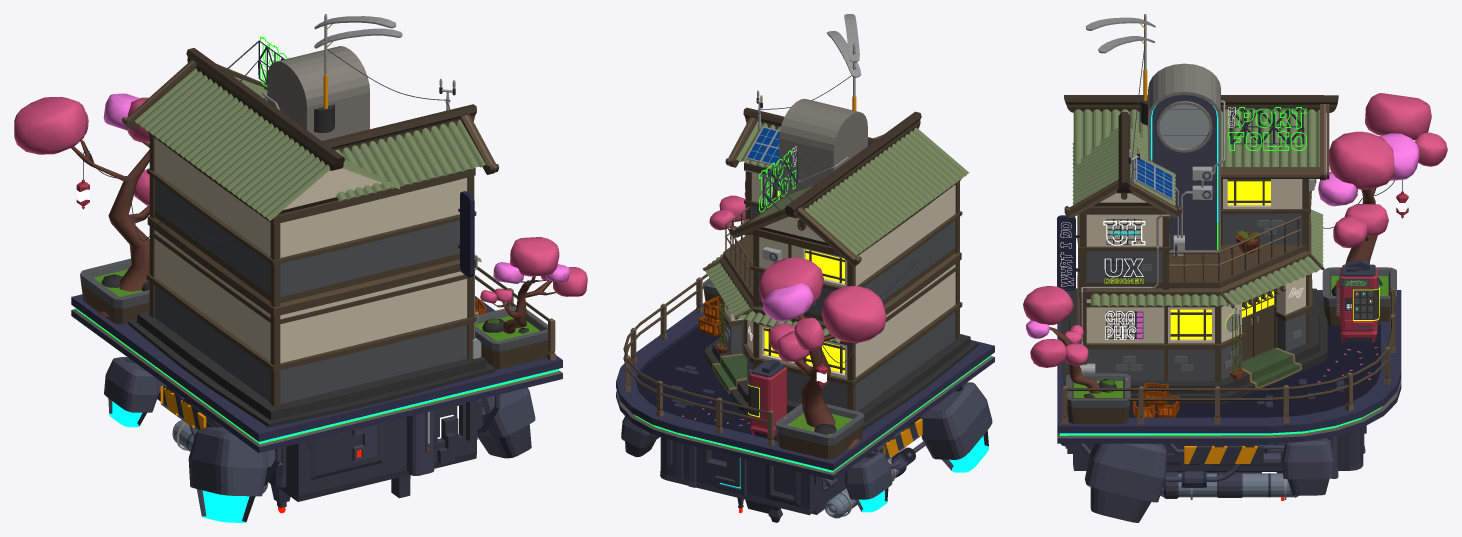
Rendered from japanhouse.glb.
The picture shows the model from 3 angles, left to right: view 1: azimuth 30°, elevation 25°; view 2: azimuth 150°, elevation 25°; view 3: azimuth 270°, elevation 25°; orthographic projection. The views are drawn at different scales.
Parts seen in each view (by area): view 1: house; view 2: house; view 3: house.
Boxes of the visible parts, x1,y1,x2,y2 form: house: [14, 14, 587, 522]; house: [616, 14, 994, 522]; house: [1023, 14, 1447, 522].
Bounding box in the file's own units: 9.72 × 12.47 × 10.31.
